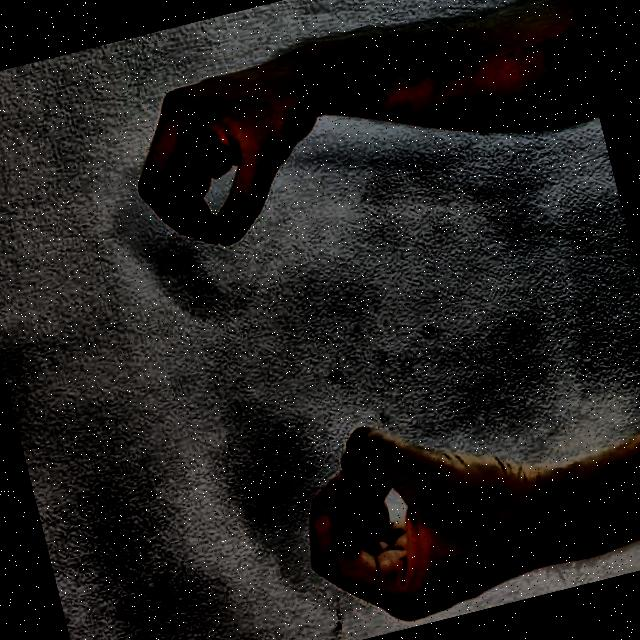Bisharga: (76, 0, 531, 640)
